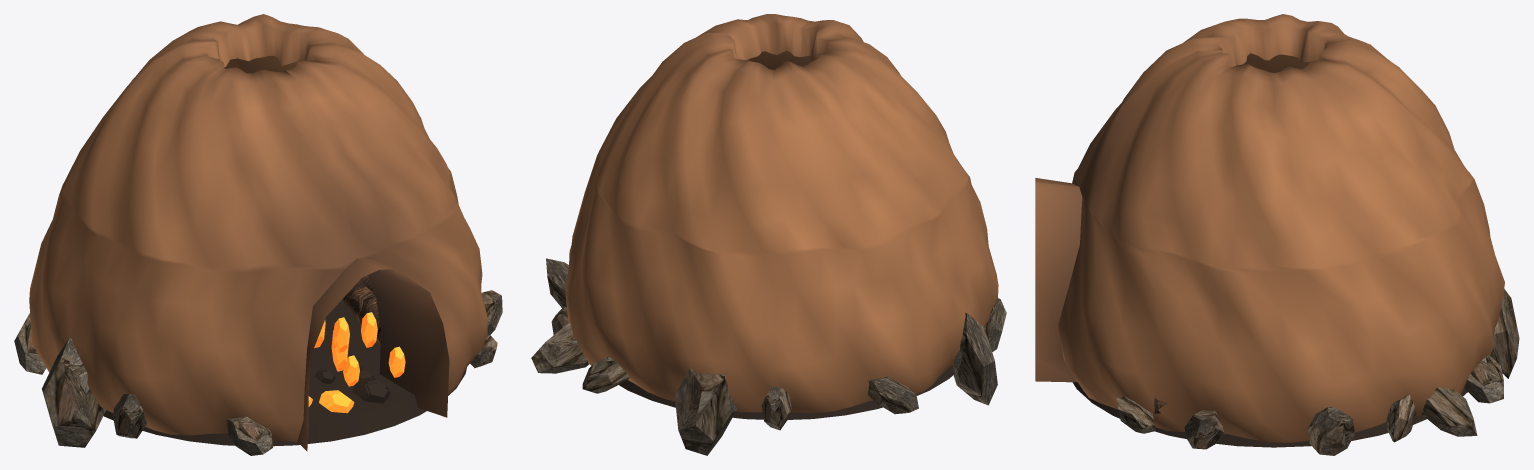
The model's file is bronzeHearth.glb.
3 renders of one model, left to right at view 1: azimuth 30°, elevation 25°; view 2: azimuth 150°, elevation 25°; view 3: azimuth 270°, elevation 25°, orthographic. The views are drawn at different scales.
Visible parts, largest first — view 1: part_0, part_2, part_1, part_3, part_4; view 2: part_0, part_2, part_1; view 3: part_0, part_2, part_1.
Boxes of the visible parts, bbox=[...] form: part_0: bbox=[29, 14, 487, 451]; part_2: bbox=[14, 290, 502, 455]; part_1: bbox=[103, 275, 466, 446]; part_3: bbox=[308, 312, 405, 413]; part_4: bbox=[342, 276, 380, 344]; part_0: bbox=[565, 14, 998, 412]; part_2: bbox=[531, 258, 1006, 455]; part_1: bbox=[619, 365, 954, 419]; part_0: bbox=[1035, 14, 1504, 442]; part_2: bbox=[1116, 289, 1519, 455]; part_1: bbox=[1072, 382, 1467, 447].
Bounding box in the file's own units: 1.46 × 1.07 × 1.36.
5 materials, 2 textured.
